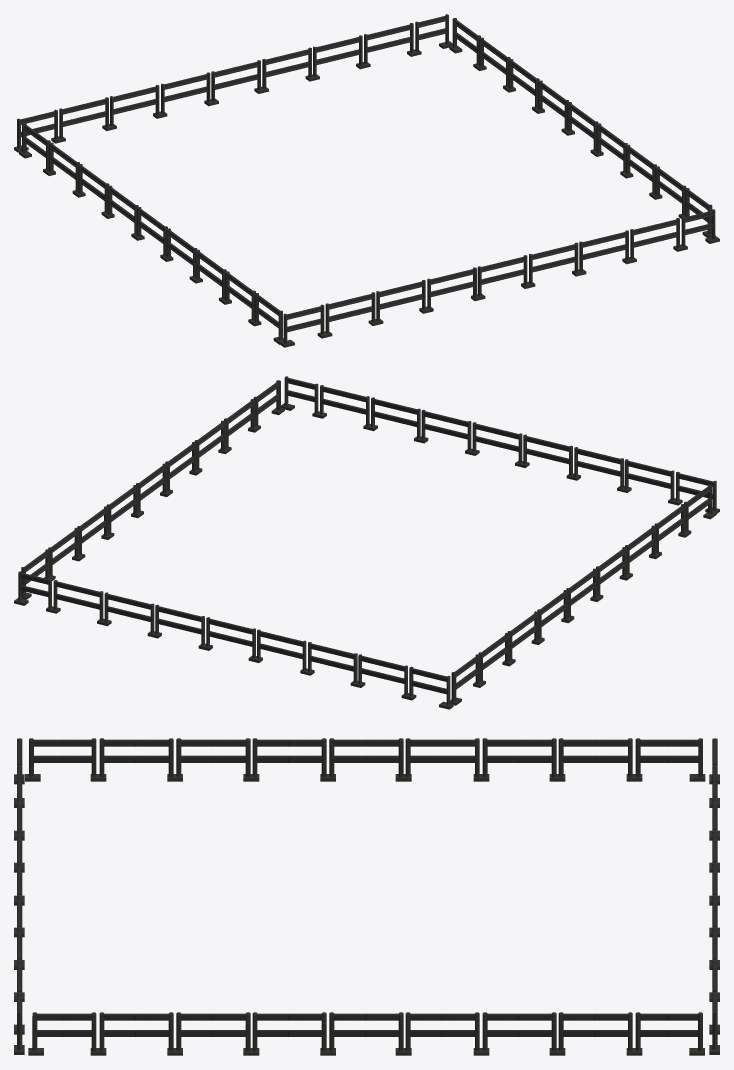
The model's file is PunchPeng_Buillding002.fbx.
3 renders of one model, top to bottom at view 1: azimuth 30°, elevation 25°; view 2: azimuth 150°, elevation 25°; view 3: azimuth 270°, elevation 25°, orthographic. The views are drawn at different scales.
Visible parts, largest first — view 1: PunchPeng_Buillding002; view 2: PunchPeng_Buillding002; view 3: PunchPeng_Buillding002.
Boxes of the visible parts, x1=… form: PunchPeng_Buillding002: x1=14, y1=14, x2=719, y2=347; PunchPeng_Buillding002: x1=14, y1=376, x2=719, y2=709; PunchPeng_Buillding002: x1=14, y1=738, x2=719, y2=1055.
Bounding box in the file's own units: 1576 × 1687 × 106.
